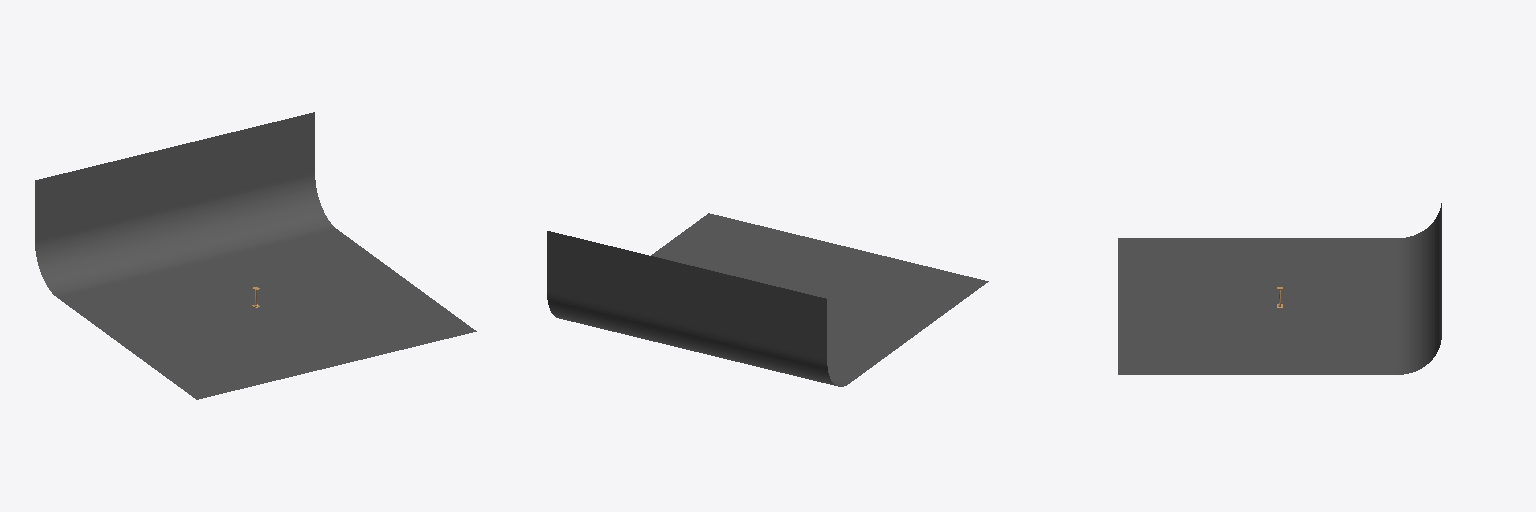
Rendered from YT_tutorial_column.obj.
The picture shows the model from 3 angles: view 1: azimuth 30°, elevation 25°; view 2: azimuth 150°, elevation 25°; view 3: azimuth 270°, elevation 25°; orthographic projection.
Visible parts, largest first — view 1: BG; view 2: BG; view 3: BG.
Part boxes in pixels (bbox=[...]): BG: bbox=[35, 112, 476, 399]; BG: bbox=[547, 213, 988, 386]; BG: bbox=[1118, 203, 1441, 374].
Bounding box in the file's own units: 142 × 48.88 × 142.